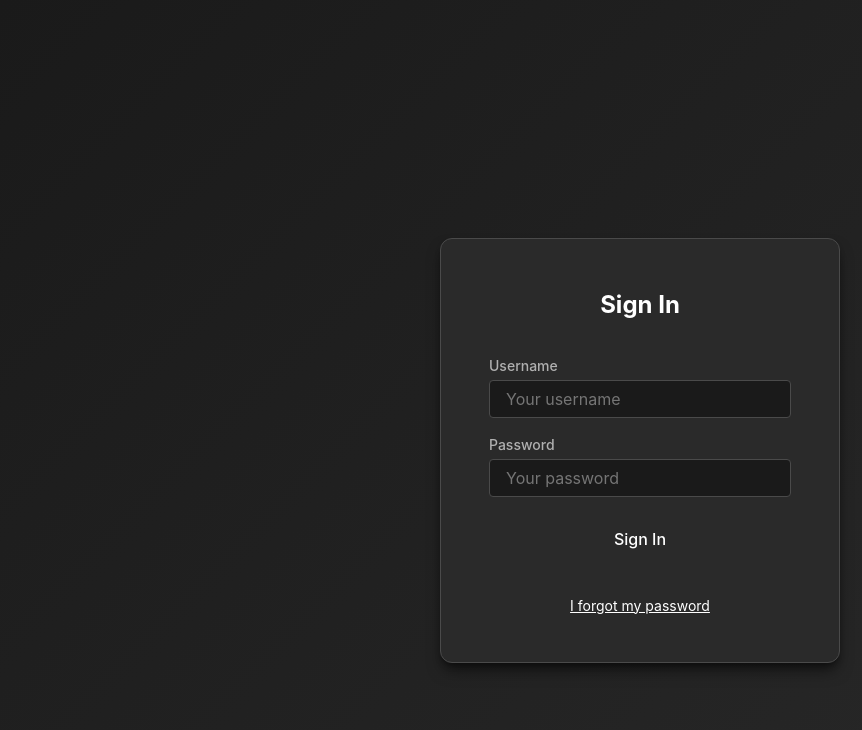
Test: PlayLoginPage — validation › shows error when fields are empty
Click the button "Sign In". click: click(640, 538)
box: x1=489 y1=512 x2=791 y2=564
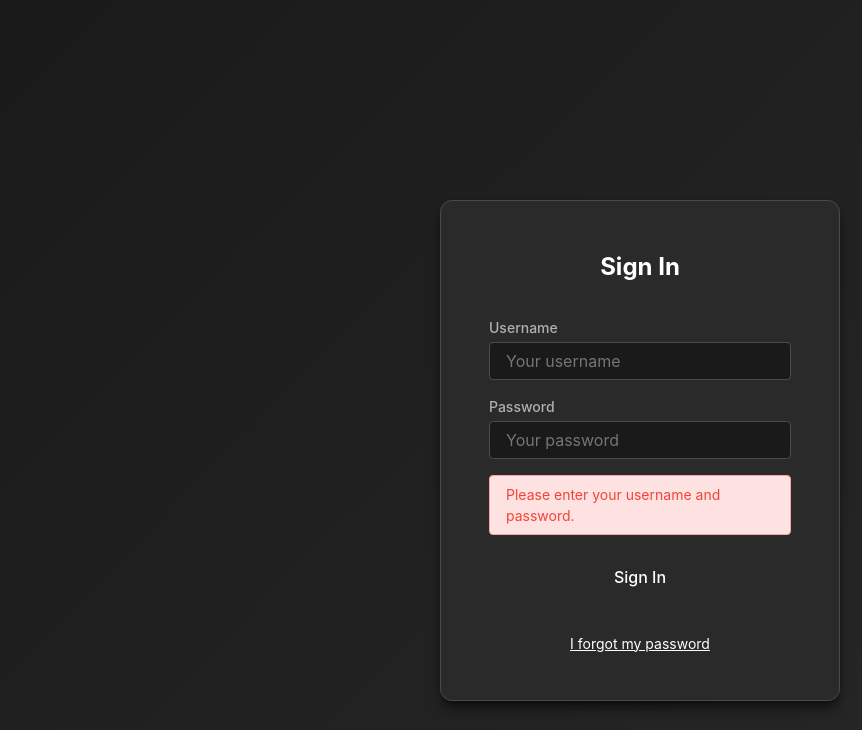
Check: the message "Please enter your username and password." is shown, box x1=489 y1=474 x2=791 y2=534
